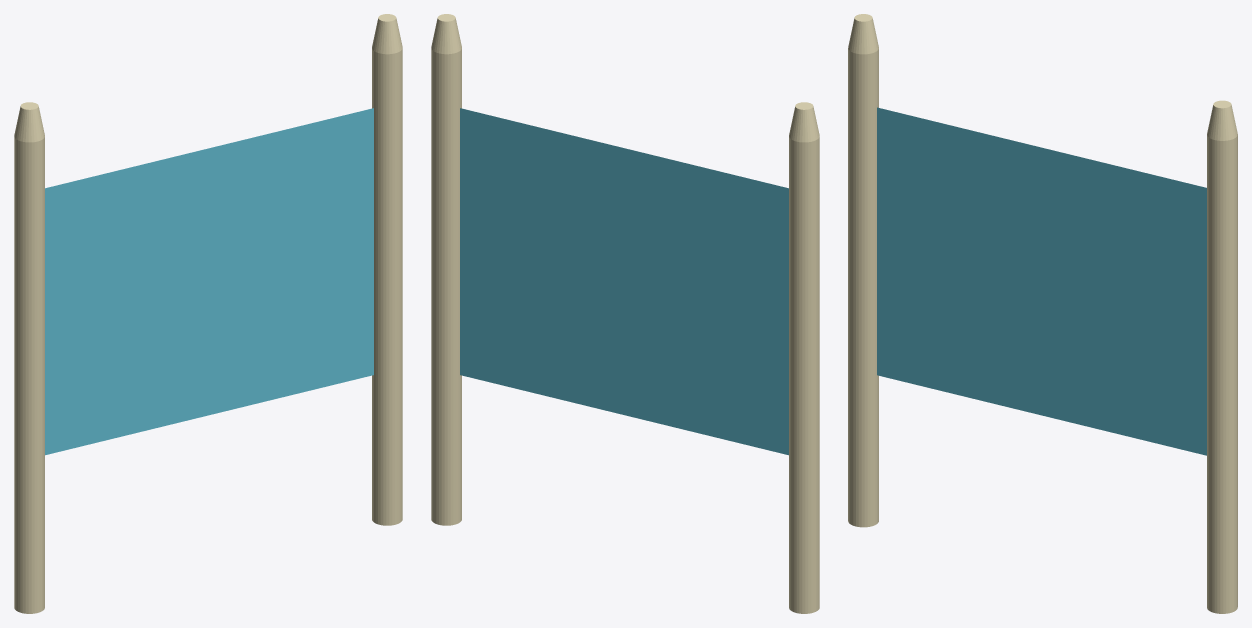
Rendered from Door_00.fbx.
3 views of the same model, side by side, from view 1: azimuth 30°, elevation 25°; view 2: azimuth 150°, elevation 25°; view 3: azimuth 330°, elevation 25° (orthographic).
Parts seen in each view (by area): view 1: Cylinder; view 2: Cylinder; view 3: Cylinder.
Boxes of the visible parts, <box> form: Cylinder: <box>14,14,402,613</box>; Cylinder: <box>431,14,819,613</box>; Cylinder: <box>848,14,1237,613</box>.
Size of the model in its own units: 190 by 238 by 13.22.
